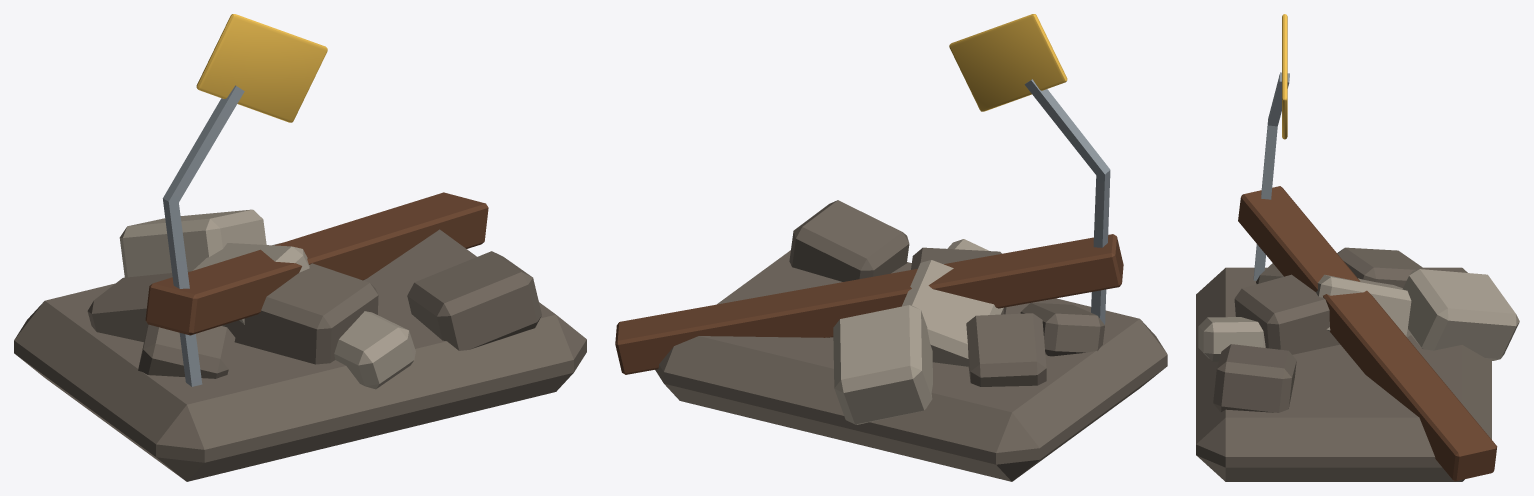
Rendered from Prop_Debris.fbx.
3 renders of one model, left to right at view 1: azimuth 30°, elevation 25°; view 2: azimuth 150°, elevation 25°; view 3: azimuth 270°, elevation 25°, orthographic. The views are drawn at different scales.
Visible parts, largest first — view 1: Chunks, Heap; view 2: Chunks, Heap; view 3: Chunks, Heap.
Part boxes in pixels (x1,y1,x2,y2): Chunks: (87, 14, 541, 389); Heap: (14, 229, 586, 481); Chunks: (615, 14, 1123, 424); Heap: (655, 250, 1167, 481); Chunks: (1198, 14, 1519, 481); Heap: (1196, 267, 1491, 481).
Size of the model in its own units: 7.66 by 6.55 by 5.47.
